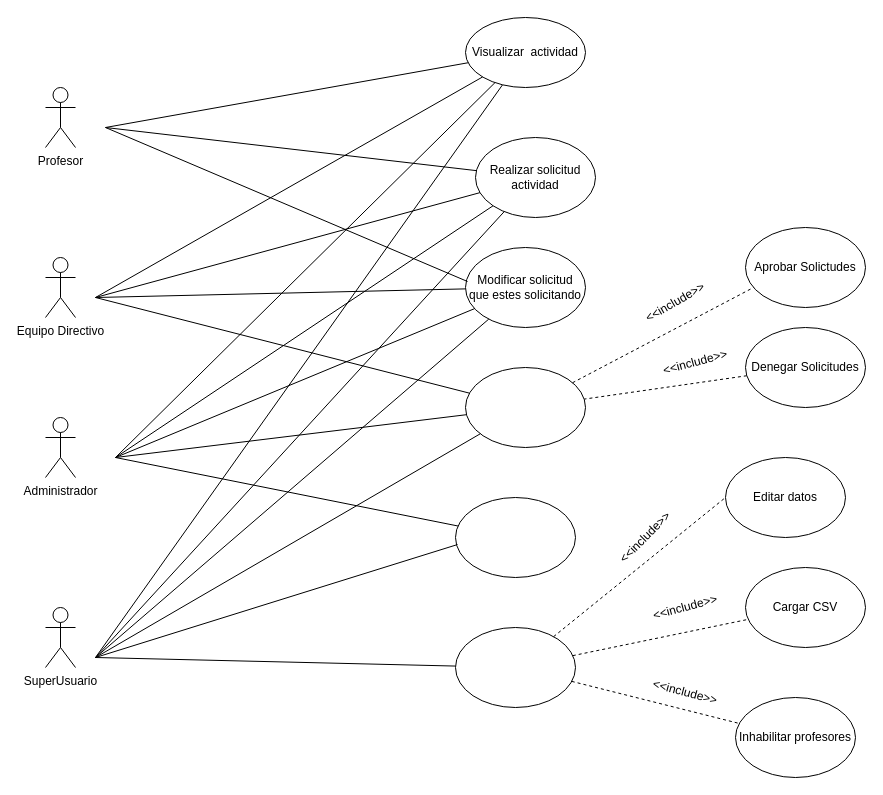
The diagram is 883 pixels wide and 795 high, and some of its shapes have lost their labels. Here are the shapes that lost their labels. From the top down, the box of each, then its label:
(464, 366, 586, 448): Aprobar y denegar solicitudes
(454, 496, 576, 578): Modificar todo tipo de solicitudes
(454, 626, 576, 708): Mantenimiento basico
